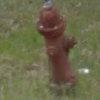Hydrant: (31, 3, 90, 90)
